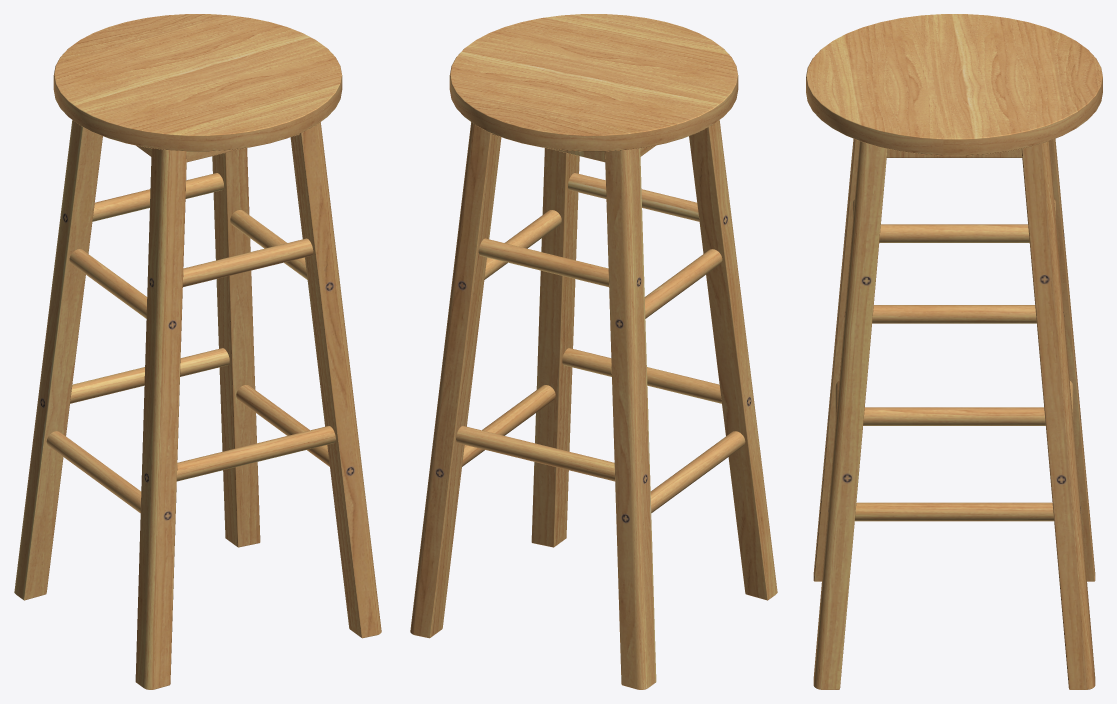
Rendered from chair_58.001.fbx.
The picture shows the model from 3 angles, left to right: view 1: azimuth 30°, elevation 25°; view 2: azimuth 150°, elevation 25°; view 3: azimuth 270°, elevation 25°; orthographic projection. The views are drawn at different scales.
Visible parts, largest first — view 1: chair_58.001; view 2: chair_58.001; view 3: chair_58.001.
Part boxes in pixels (left/top/right/bottom): chair_58.001: left=14, top=14, right=381, bottom=689; chair_58.001: left=410, top=14, right=777, bottom=689; chair_58.001: left=806, top=14, right=1102, bottom=689.
Size of the model in its own units: 29.29 by 60.53 by 29.37.
1 material, 1 textured.
